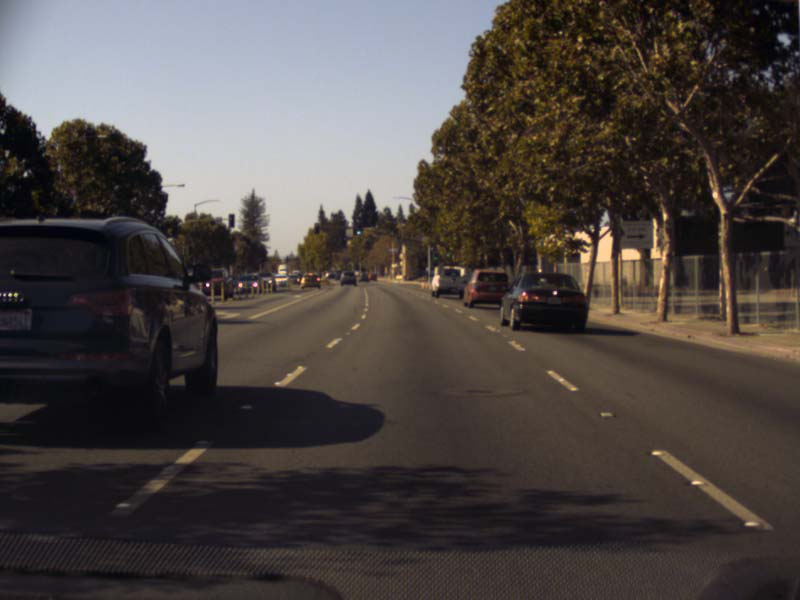Green: (353, 211, 363, 235), (445, 244, 452, 259), (432, 252, 438, 265)
Red: (313, 222, 319, 234)
